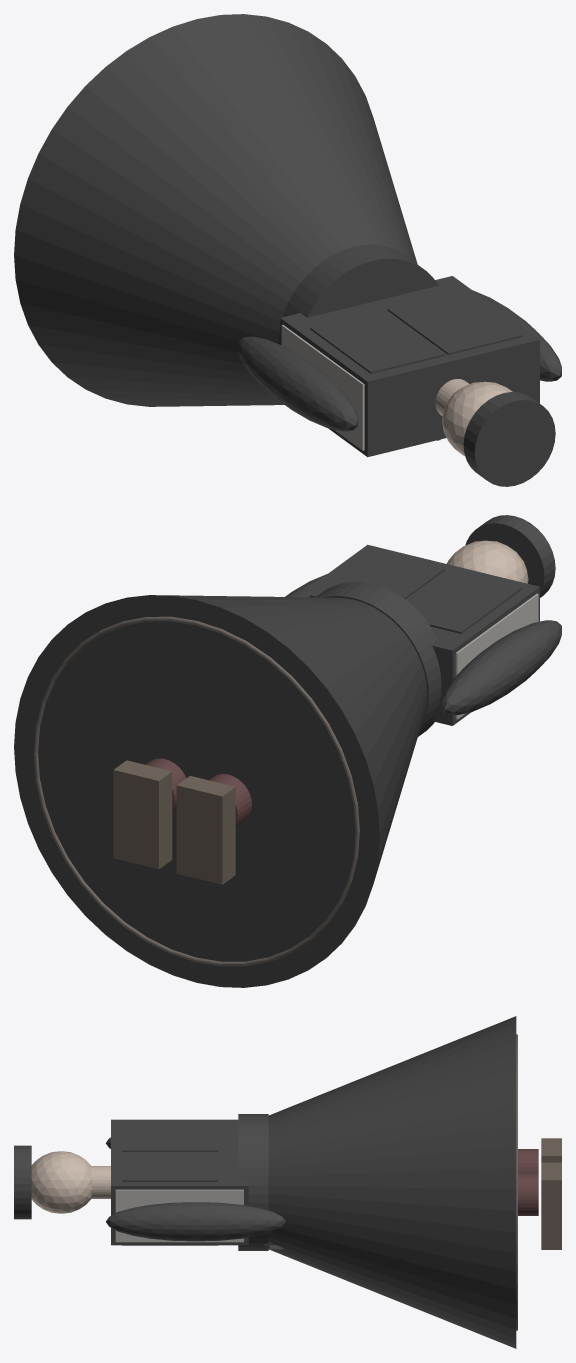
Rendered from MASTER_035_STAGE3_DETAIL.glb.
The picture shows the model from 3 angles, top to bottom: view 1: azimuth 30°, elevation 25°; view 2: azimuth 150°, elevation 25°; view 3: azimuth 270°, elevation 25°; orthographic projection. The views are drawn at different scales.
Visible parts, largest first — view 1: slot_lower_main__fund_i_gjatë, slot_upper_inner__këmishë, slot_headwear__mbulesë_koke, slot_waist__brez, slot_upper_inner_sleeve_L, slot_upper_outer__jelek/xhamadan_R, slot_upper_outer__jelek/xhamadan_L, mannequin_torso, mannequin_head, slot_upper_inner_sleeve_R; view 2: slot_lower_main__fund_i_gjatë, slot_footwear__opinga_R, slot_footwear__opinga_L, slot_upper_inner_sleeve_L, detail_skirt_hem, slot_upper_inner__këmishë, slot_upper_outer__jelek/xhamadan_L, slot_waist__brez, slot_headwear__mbulesë_koke, slot_upper_outer__jelek/xhamadan_R, mannequin_head, mannequin_torso (+2 smaller); view 3: slot_lower_main__fund_i_gjatë, slot_upper_inner_sleeve_R, slot_upper_inner__këmishë, mannequin_head, slot_waist__brez, slot_upper_outer__jelek/xhamadan_R, slot_upper_outer__jelek/xhamadan_L, mannequin_torso, slot_footwear__opinga_R, slot_headwear__mbulesë_koke, slot_legwear__çorape_R, mannequin_neck (+3 smaller).
Boxes of the visible parts, x1,y1,x2,y2 form: slot_lower_main__fund_i_gjatë: (14,14,417,406); slot_upper_inner__këmishë: (280,276,539,457); slot_headwear__mbulesë_koke: (463,392,555,486); slot_waist__brez: (278,244,438,344); slot_upper_inner_sleeve_L: (238,336,357,431); slot_upper_outer__jelek/xhamadan_R: (387,290,522,354); slot_upper_outer__jelek/xhamadan_L: (310,309,444,373); mannequin_torso: (281,325,364,450); mannequin_head: (442,381,512,455); slot_upper_inner_sleeve_R: (472,290,561,381); slot_lower_main__fund_i_gjatë: (14,595,427,987); slot_footwear__opinga_R: (113,760,172,869); slot_footwear__opinga_L: (176,776,235,884); slot_upper_inner_sleeve_L: (442,620,561,715); detail_skirt_hem: (33,616,359,966); slot_upper_inner__këmishë: (296,544,539,725); slot_upper_outer__jelek/xhamadan_L: (406,569,522,633); slot_waist__brez: (316,582,441,736); slot_headwear__mbulesë_koke: (465,515,555,597); slot_upper_outer__jelek/xhamadan_R: (310,550,444,599); mannequin_head: (447,540,528,583); mannequin_torso: (455,593,538,719); slot_lower_main__fund_i_gjatë: (268,1016,516,1348); slot_upper_inner_sleeve_R: (106,1202,285,1241); slot_upper_inner__këmishë: (111,1119,248,1245); mannequin_head: (31,1151,91,1213); slot_waist__brez: (238,1114,268,1250); slot_upper_outer__jelek/xhamadan_R: (122,1152,218,1245); slot_upper_outer__jelek/xhamadan_L: (122,1122,218,1151); mannequin_torso: (115,1189,243,1242); slot_footwear__opinga_R: (541,1162,561,1249); slot_headwear__mbulesë_koke: (14,1145,31,1219); slot_legwear__çorape_R: (518,1173,538,1215); mannequin_neck: (91,1166,110,1198).
Size of the model in its own units: 1.04 by 1.04 by 1.71.
